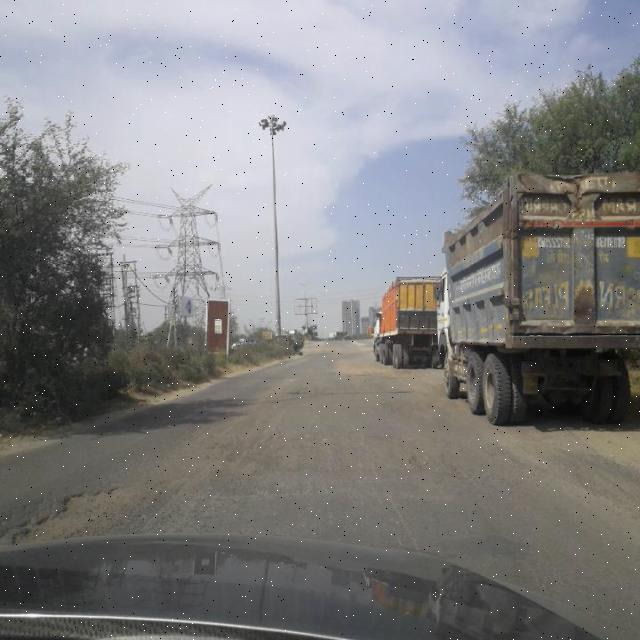D00: (336, 402, 418, 538)
D40: (5, 470, 156, 536), (188, 409, 329, 479), (322, 355, 388, 381), (408, 444, 433, 470)
